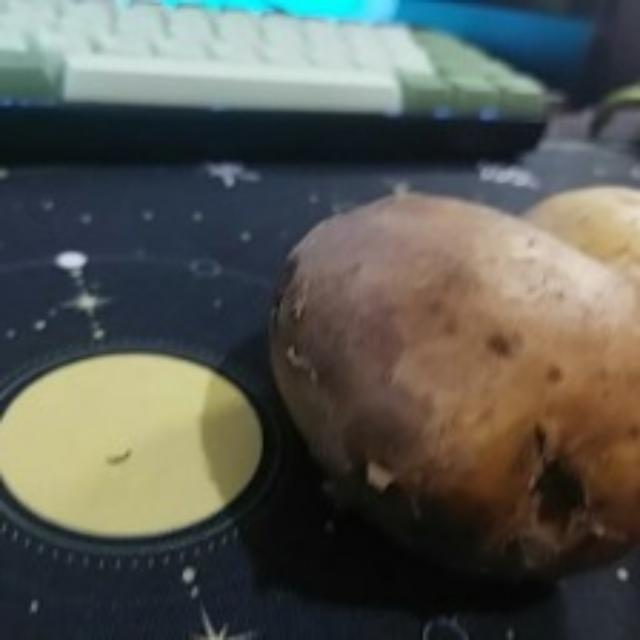Damaged potato: (276, 196, 640, 594)
Potato: (526, 188, 640, 294)
